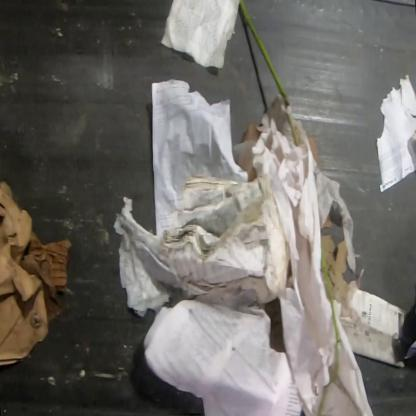cardboard: (0, 180, 77, 368), (320, 234, 347, 302), (306, 136, 324, 174), (320, 210, 338, 230)
